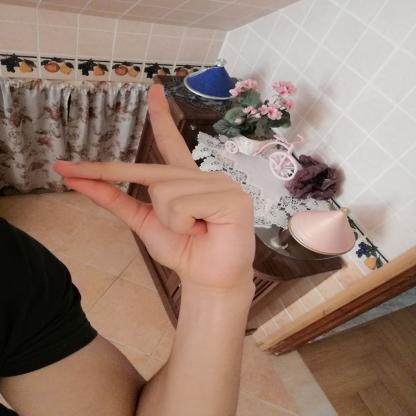TAA: (38, 70, 272, 294)
